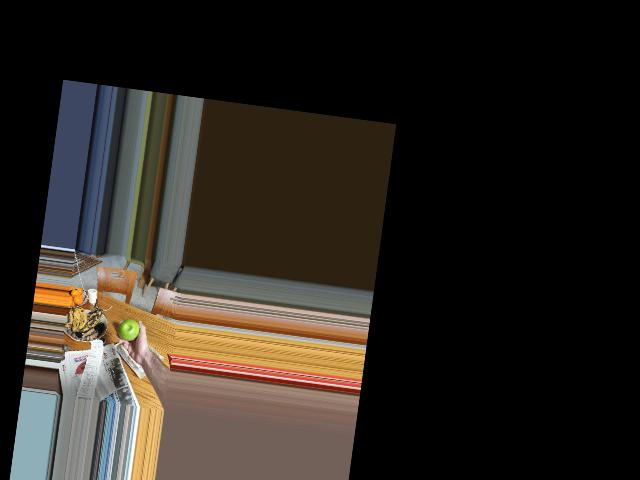apple: (117, 313, 140, 346)
